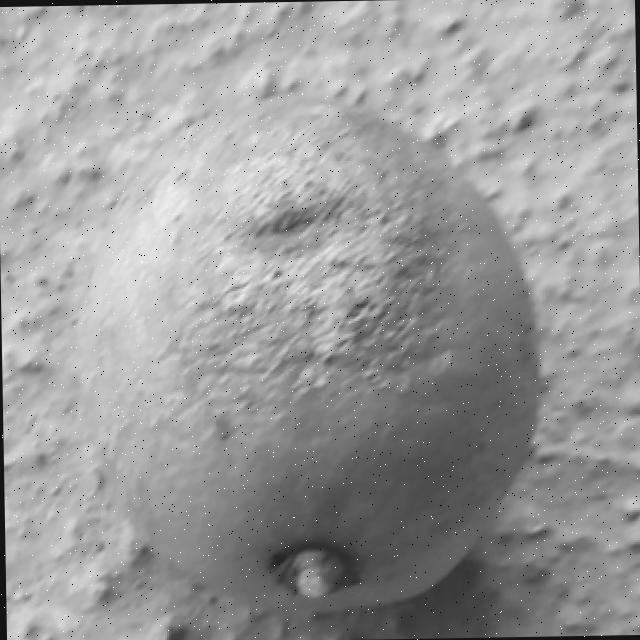overripe: (65, 78, 552, 621)
